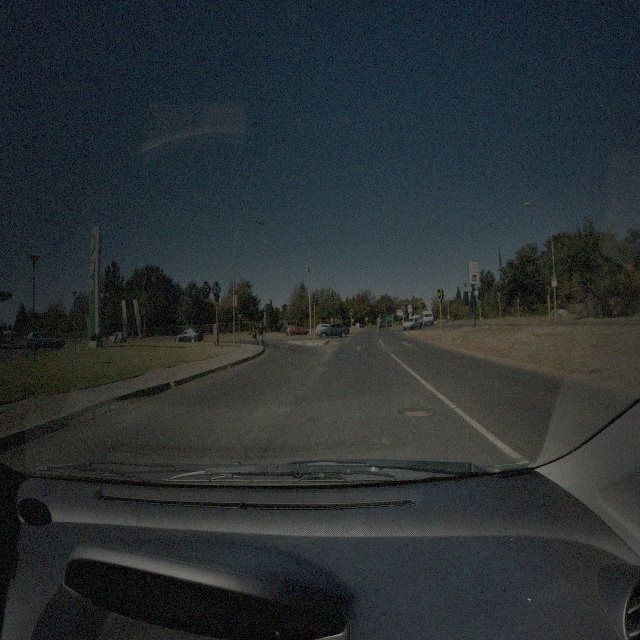pothole: (404, 407, 434, 417)
